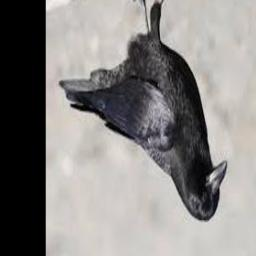Crow: (58, 0, 227, 221)
